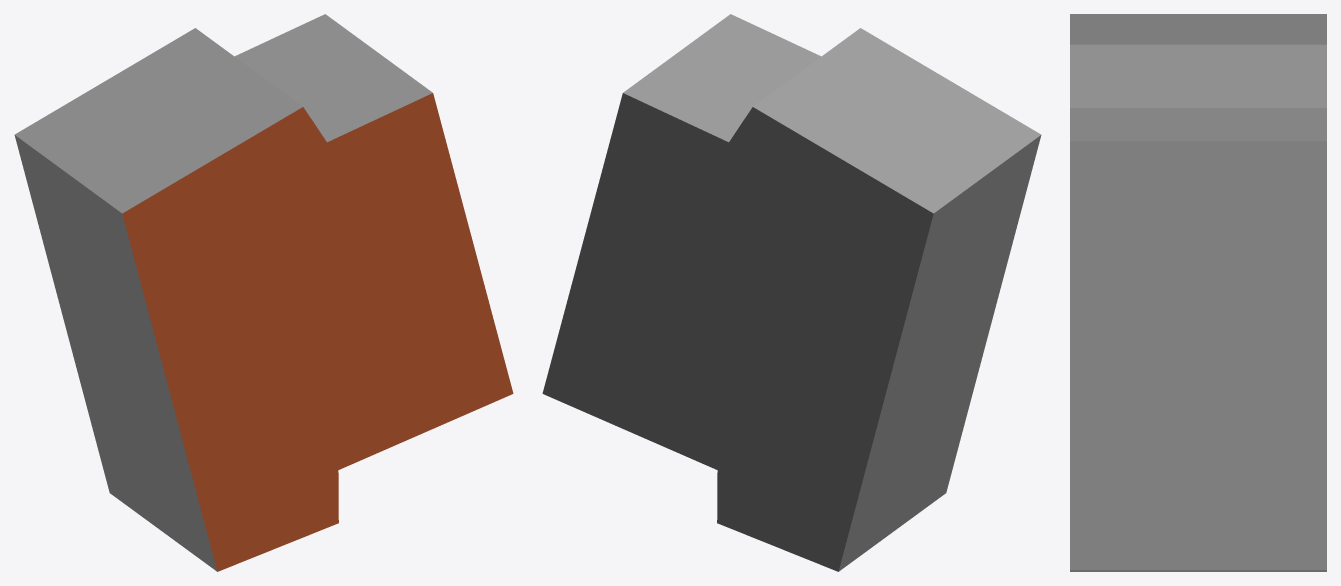
The model's file is construction_4086_assumed_A_Casa_h6m.obj.
The picture shows the model from 3 angles, left to right: view 1: azimuth 30°, elevation 25°; view 2: azimuth 150°, elevation 25°; view 3: azimuth 270°, elevation 25°; orthographic projection. The views are drawn at different scales.
Parts seen in each view (by area): view 1: construction_4086_assumed_A_Casa; view 2: construction_4086_assumed_A_Casa; view 3: construction_4086_assumed_A_Casa.
Part boxes in pixels (x1,y1,x2,y2): construction_4086_assumed_A_Casa: (14, 14, 513, 571); construction_4086_assumed_A_Casa: (542, 14, 1041, 571); construction_4086_assumed_A_Casa: (1070, 14, 1326, 571).
Size of the model in its own units: 12.57 by 13.64 by 6.
